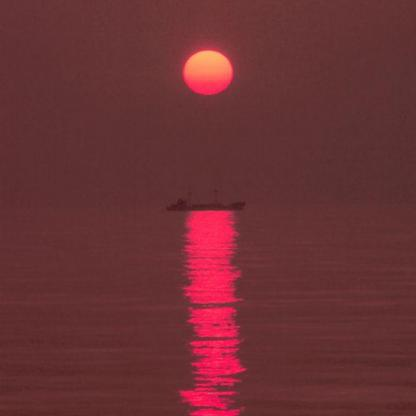other: (174, 203, 252, 410), (173, 38, 242, 101)
